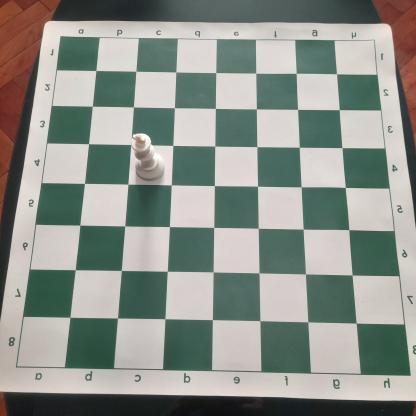white-king: (130, 131, 167, 182)
